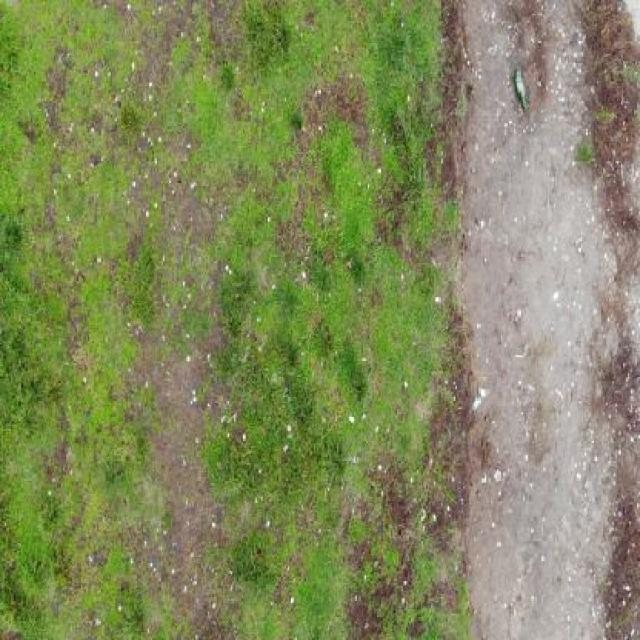Garbage: (514, 68, 527, 113)
